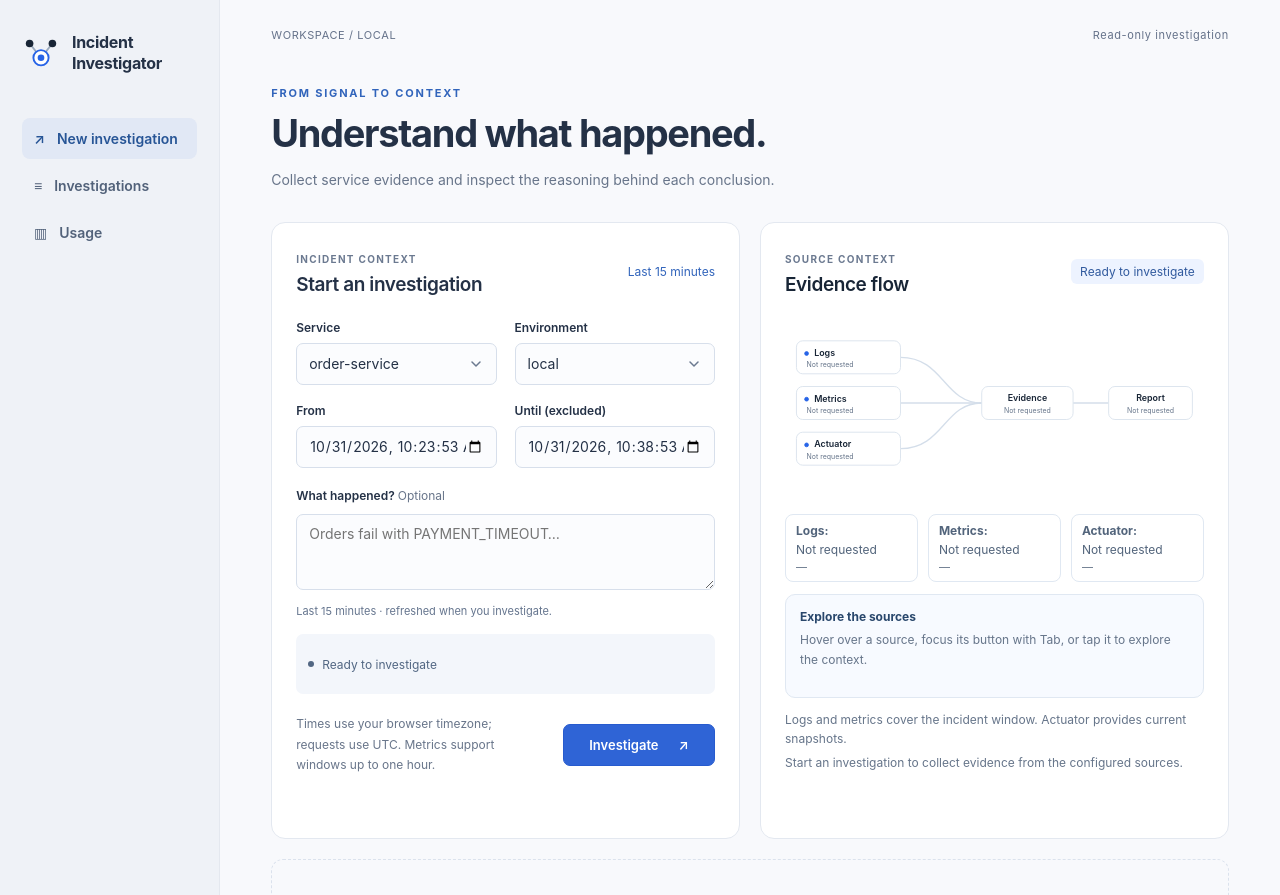
Test: investigation workspace › rejects an invalid time window locally, announces it and focuses the invalid field
Replace the text in the field labelled "From" with "2026-10-14T10:00". click: x=396, y=447
box: [296,426,497,468]
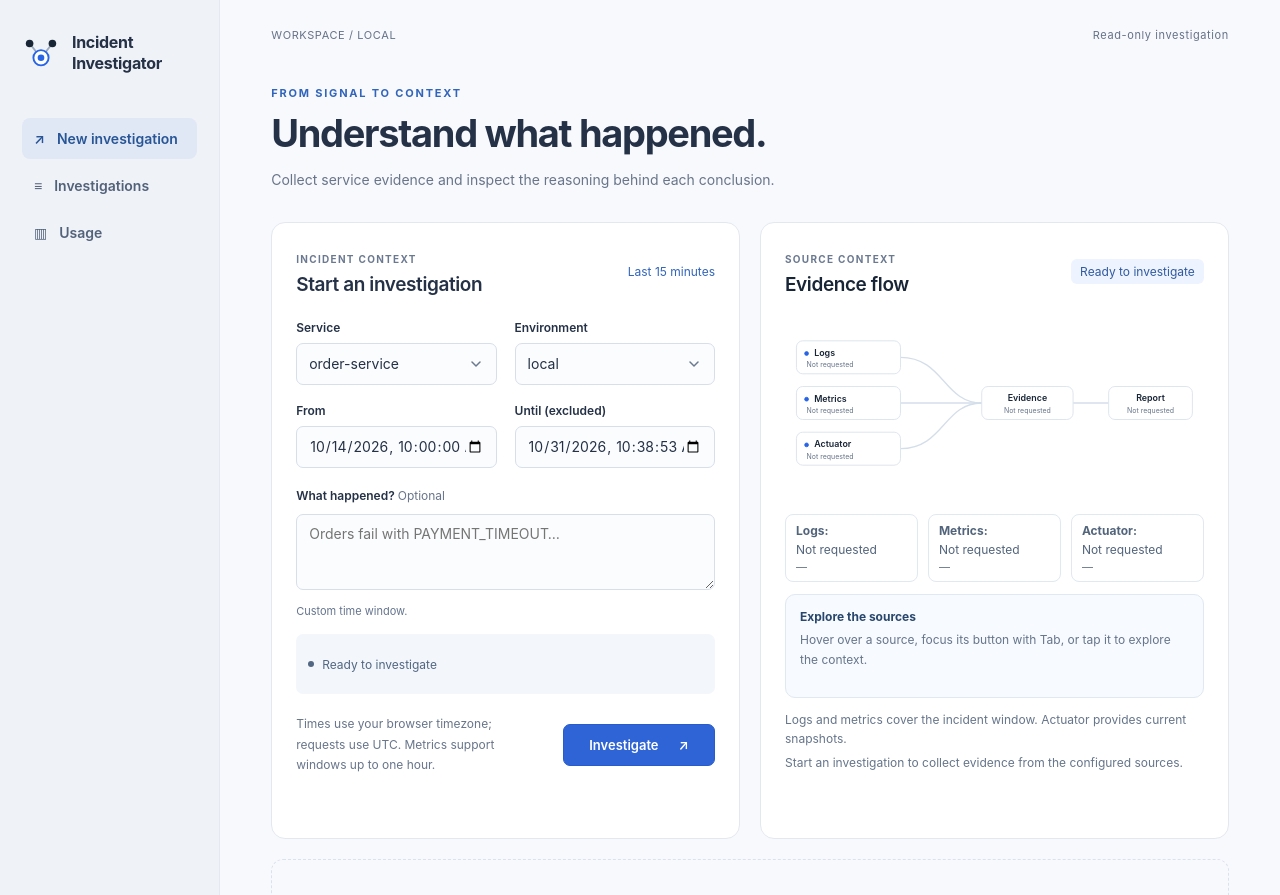
Replace the text in the field labelled "Until (excluded)" with "2026-10-14T10:00". click: x=615, y=447
box: [515,426,715,468]
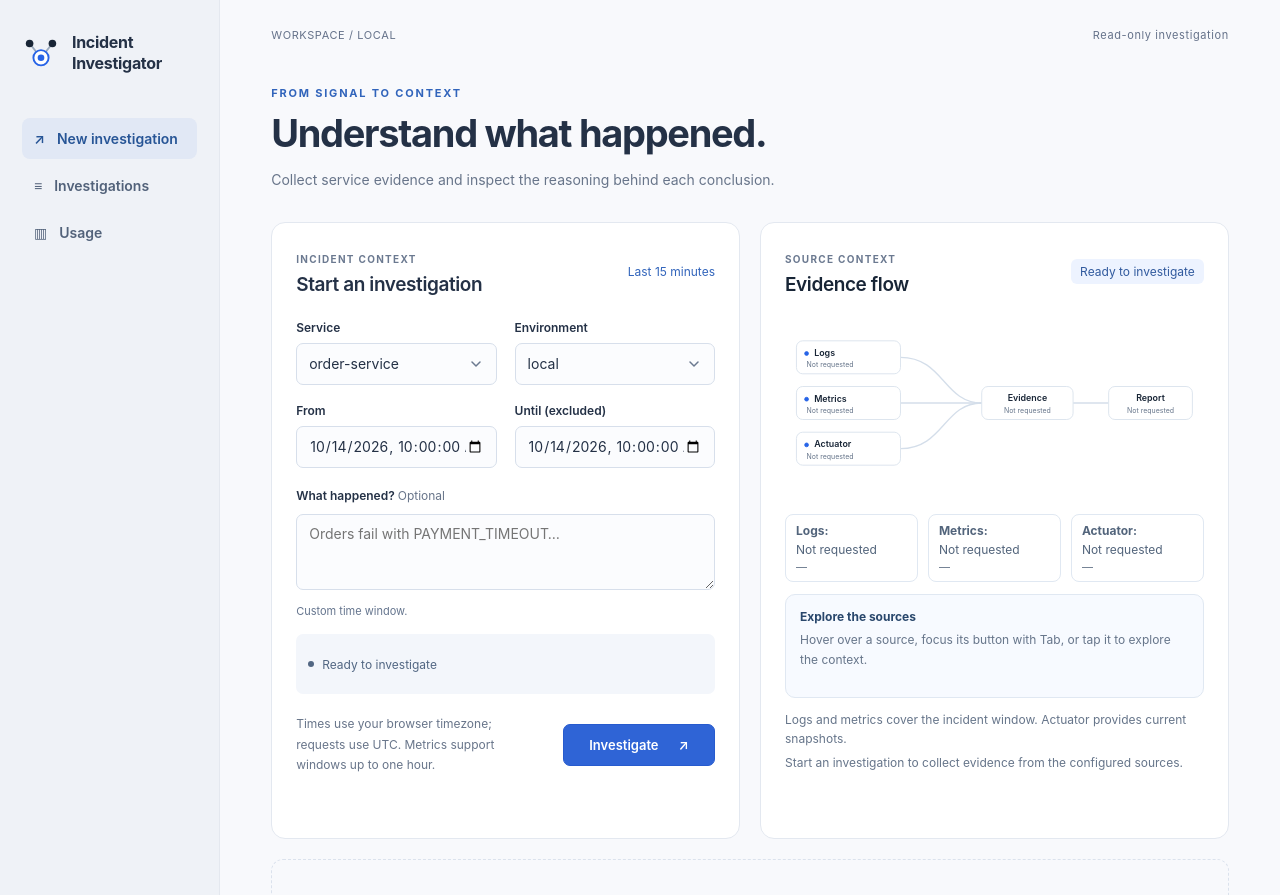
Click the button "Investigate ↗". click: x=639, y=745
box: [563,724,715,766]
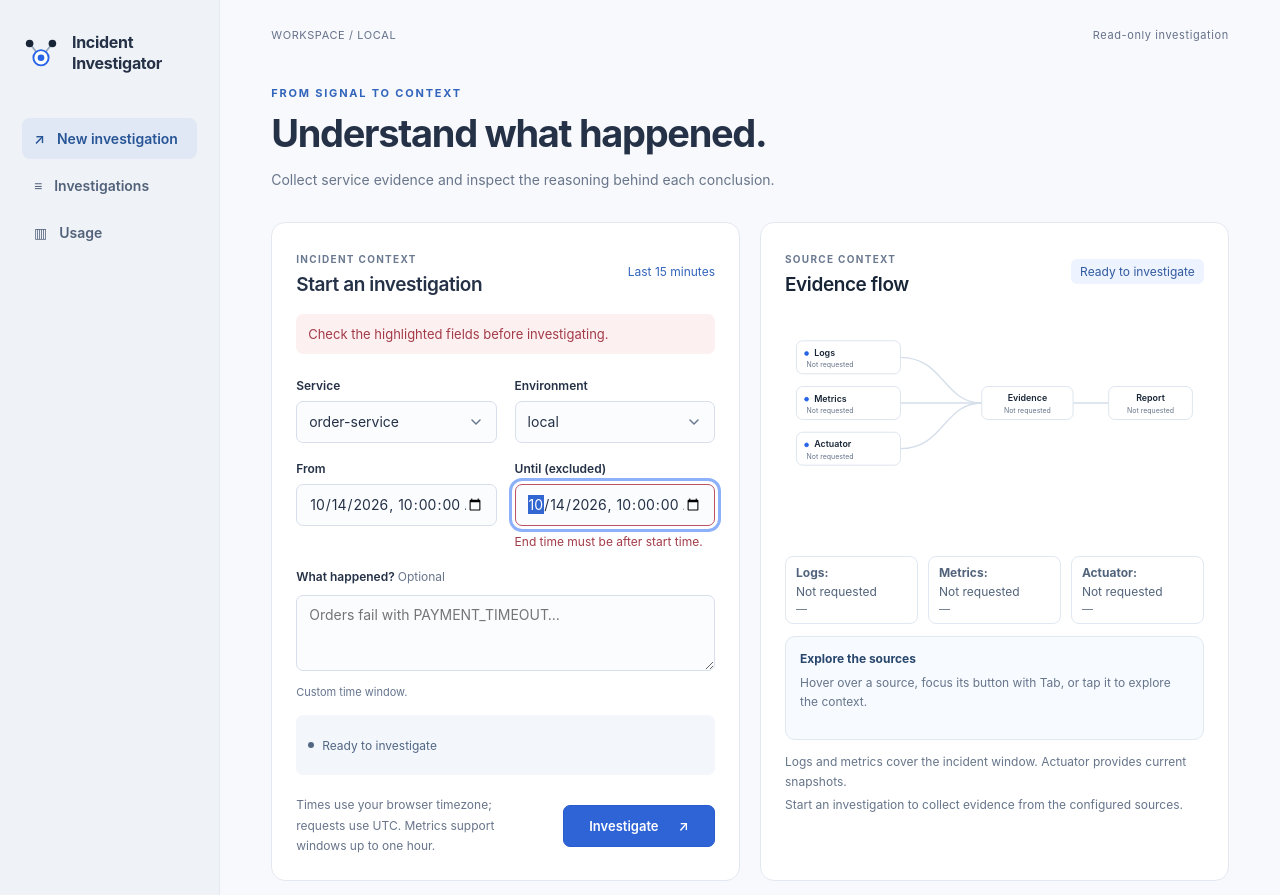
Result: the message "Check the highlighted fields before investigating." is shown at [296,314,715,354]
